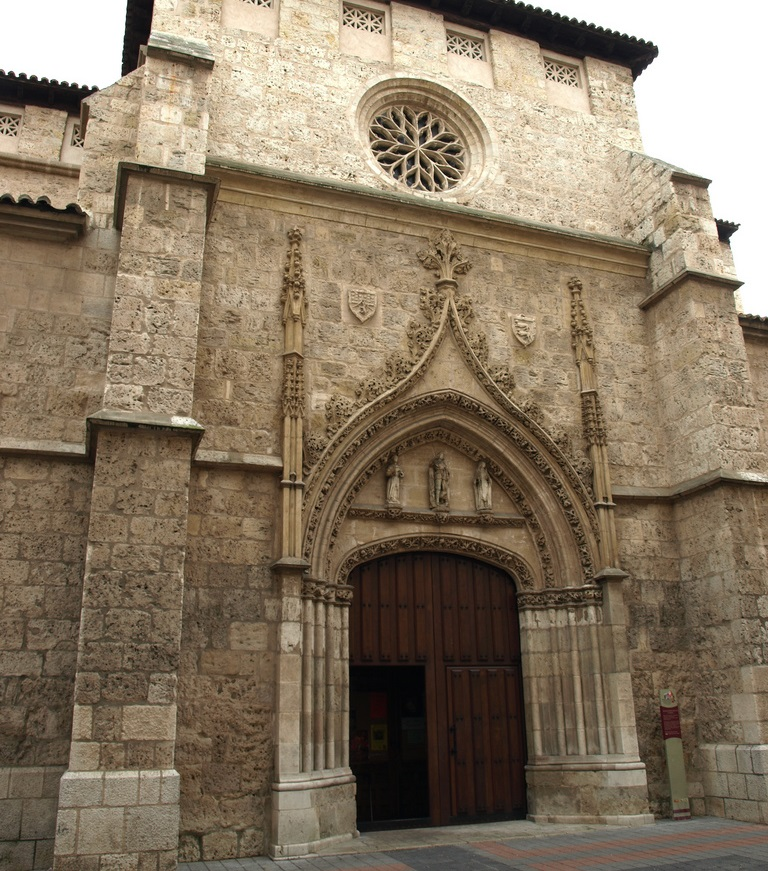arco-apuntado: (317, 414, 571, 565)
arco-conopial: (332, 292, 568, 455)
